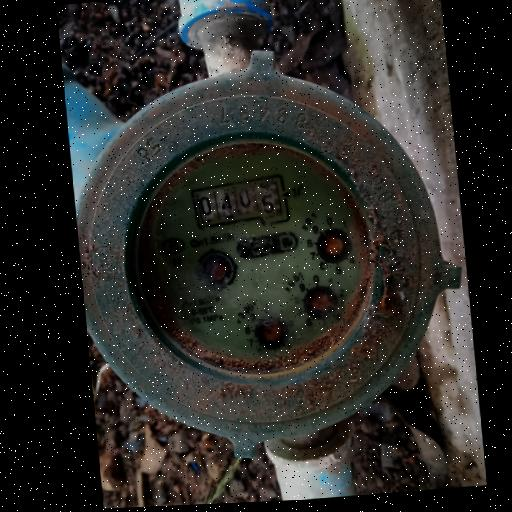0: (233, 182, 262, 216), (195, 191, 220, 223)
4: (213, 186, 240, 220)
5: (256, 179, 282, 219)
border_water_meter_number: (189, 172, 292, 238)
